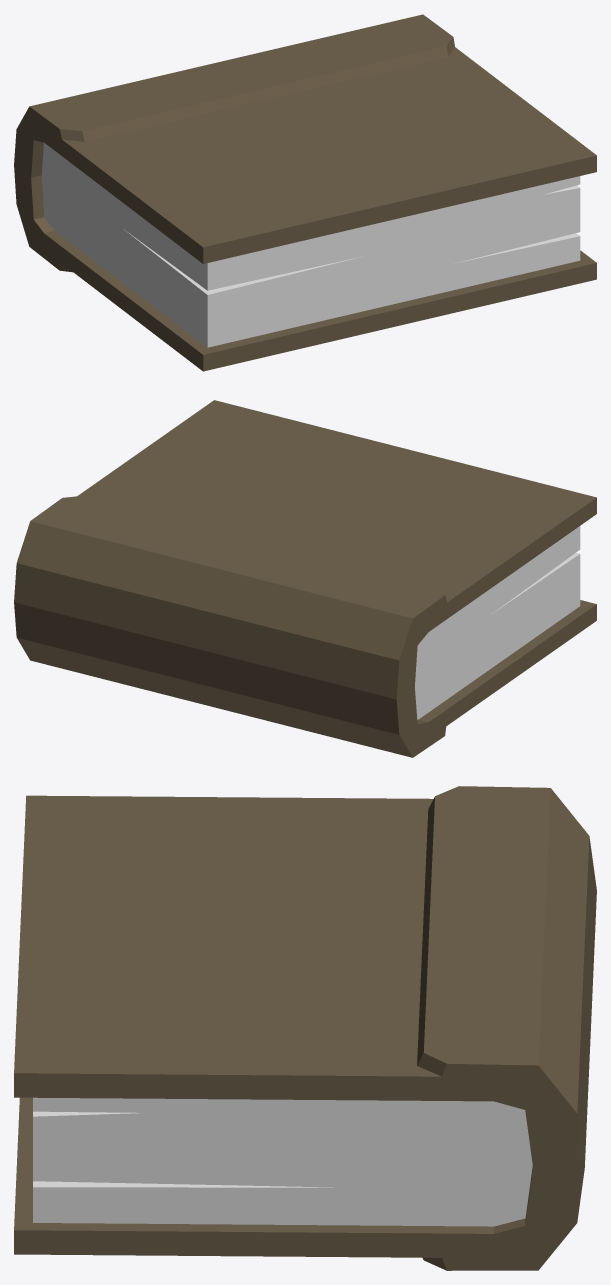
The model's file is book.fbx.
3 renders of one model, top to bottom at view 1: azimuth 30°, elevation 25°; view 2: azimuth 150°, elevation 25°; view 3: azimuth 270°, elevation 25°, orthographic. The views are drawn at different scales.
Parts seen in each view (by area): view 1: Book1_low.001; view 2: Book1_low.001; view 3: Book1_low.001.
Boxes of the visible parts, <box> form: Book1_low.001: <box>14,14,596,371</box>; Book1_low.001: <box>14,400,596,757</box>; Book1_low.001: <box>14,786,596,1270</box>.
Size of the model in its own units: 82.24 by 28.22 by 71.83.
